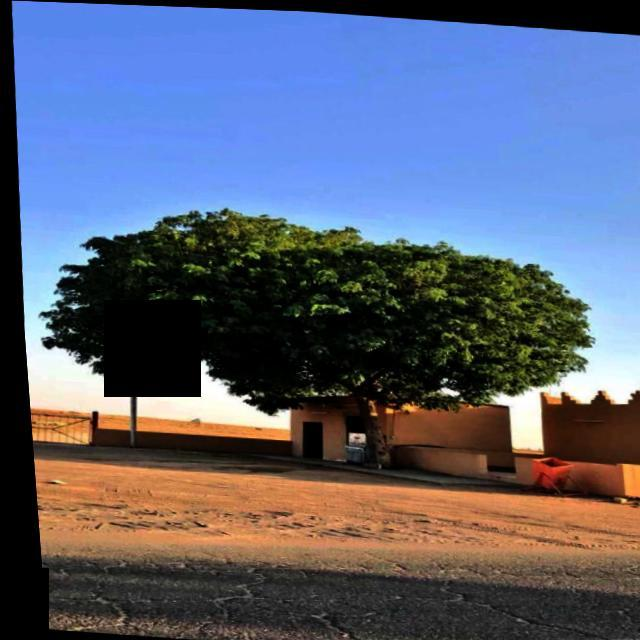Tree: (38, 201, 598, 477)
